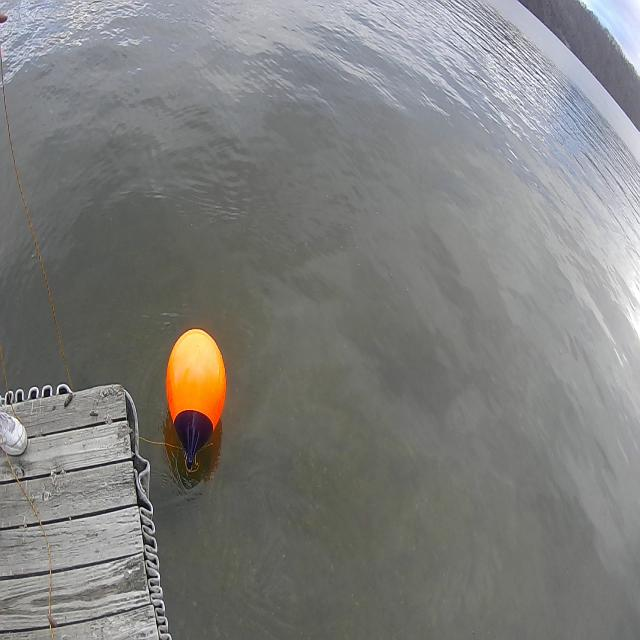Buoy: (162, 319, 230, 447)
